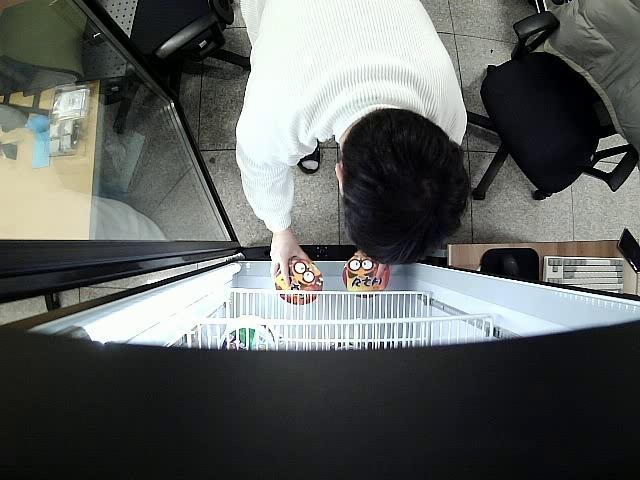05_nuguri_L: (343, 251, 389, 298), (275, 260, 324, 304)
